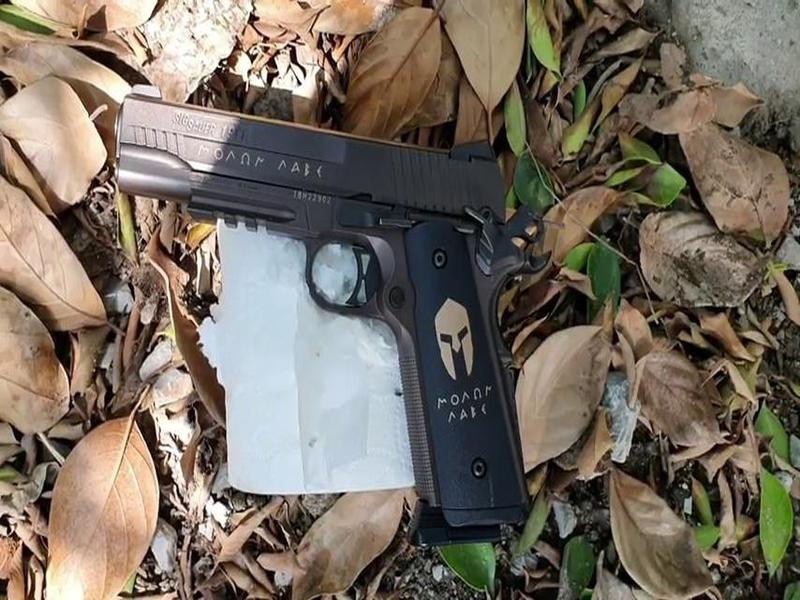Pistola: (98, 63, 563, 562)
